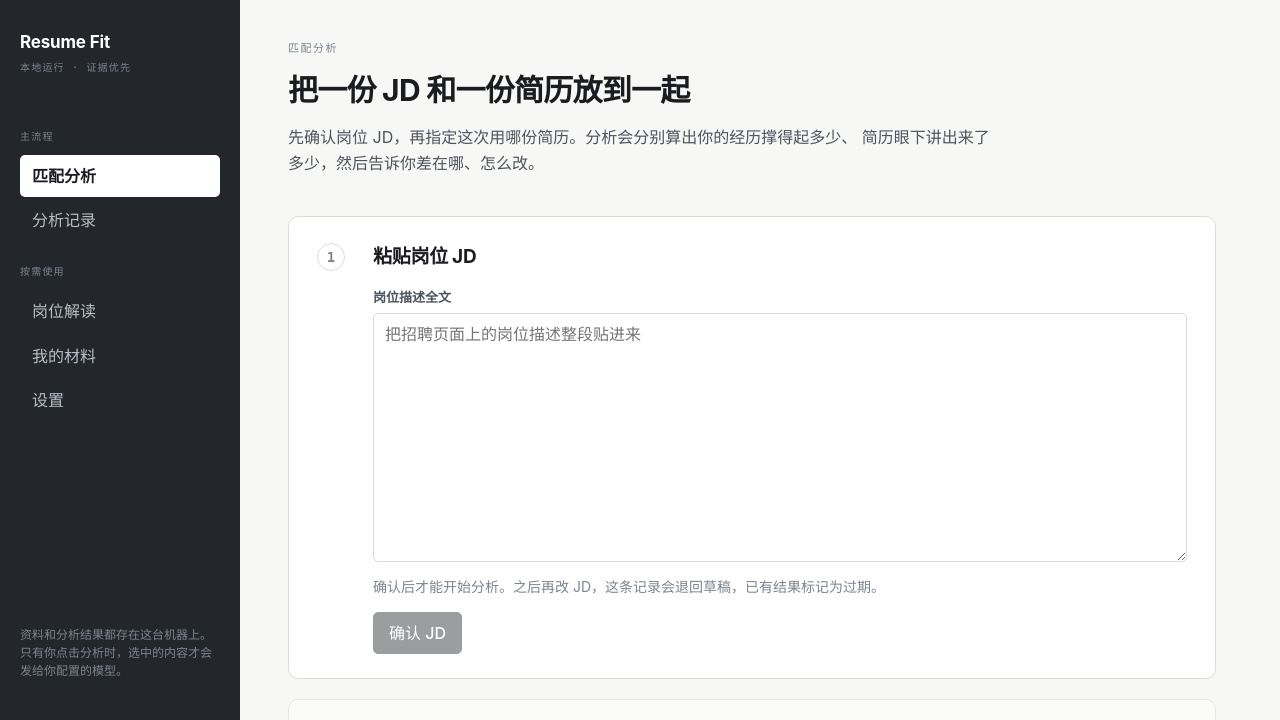
Test: job insight is reachable without touching a resume
The image size is (1280, 720).
Click the button "岗位解读" at point(120, 312), box [20,290,220,333]
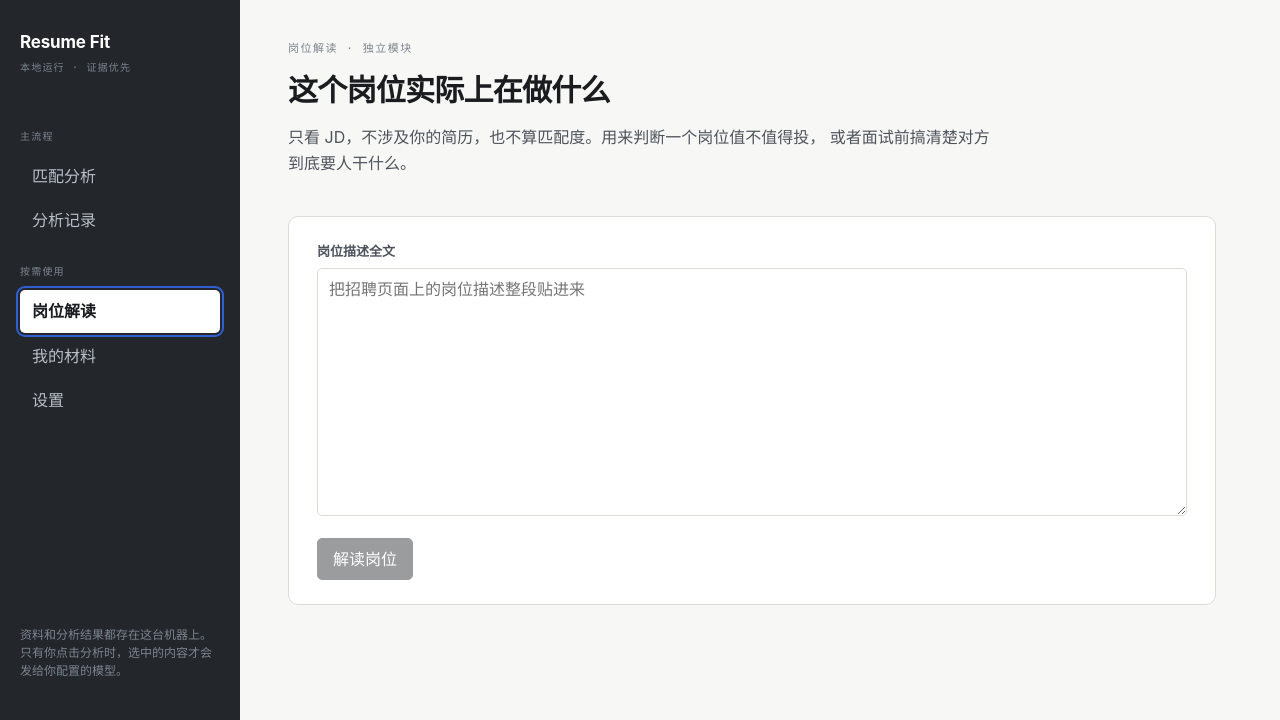
Result: the heading "这个岗位实际上在做什么" is shown at [288,72,610,108]
Result: the text "只看 JD，不涉及你的简历，也不算匹配度。用来判断一个岗位值不值得投， 或者面试前搞清楚对方到底要人干什么。" is shown at [288,124,992,176]
